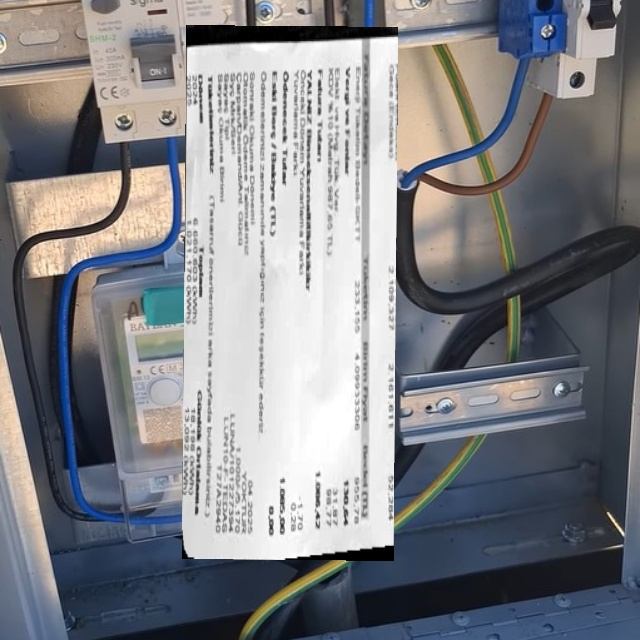electricity-bill: (182, 24, 398, 560)
